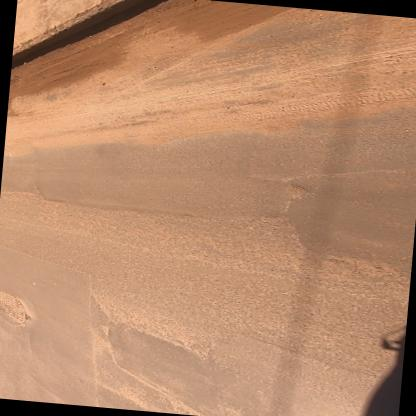manholes: (0, 287, 42, 331)
